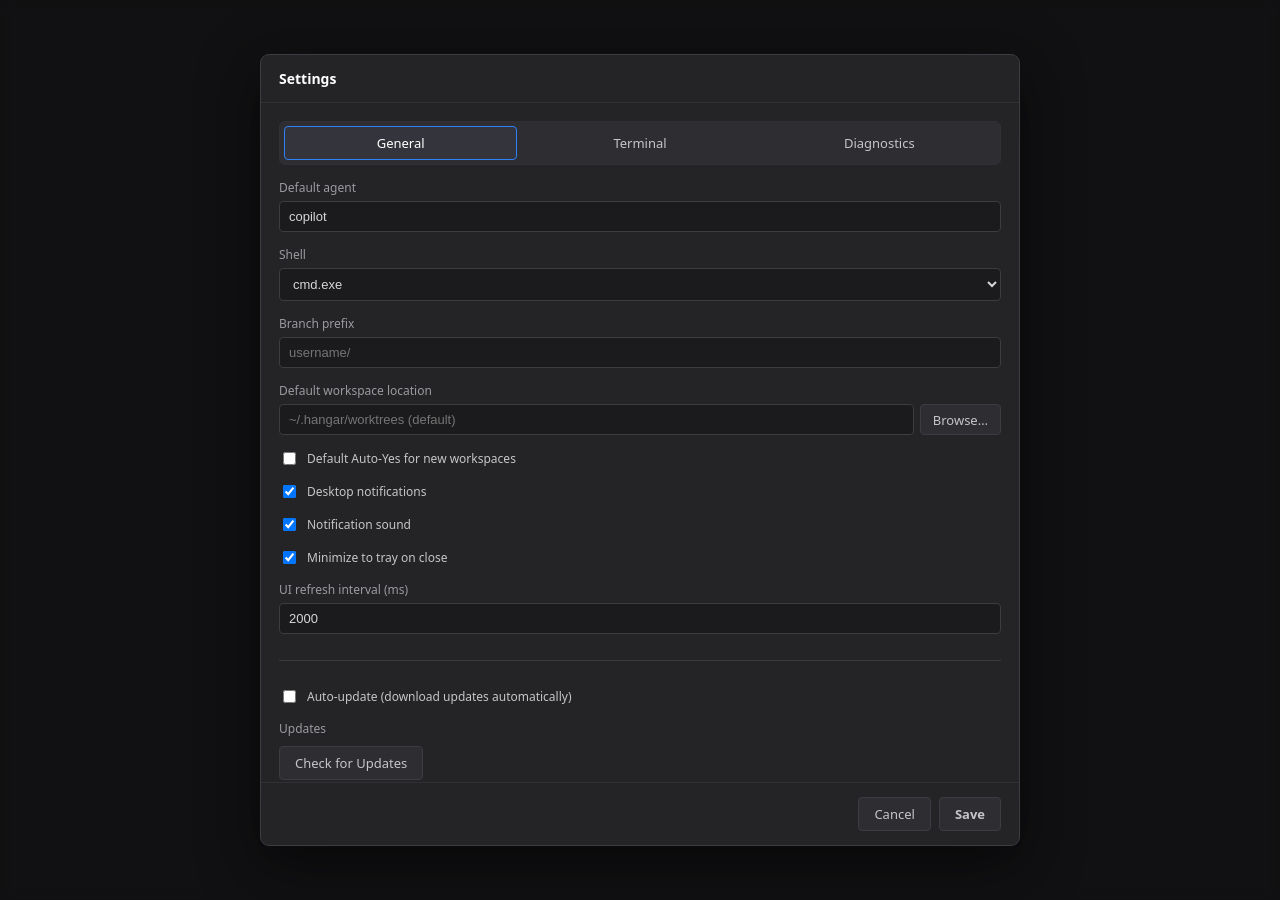
Test: SettingsModal › auto-detects installed terminal profiles
The width and height of the screenshot is (1280, 900).
Click the tab "Terminal" at (640, 143), box x1=523 y1=126 x2=757 y2=160
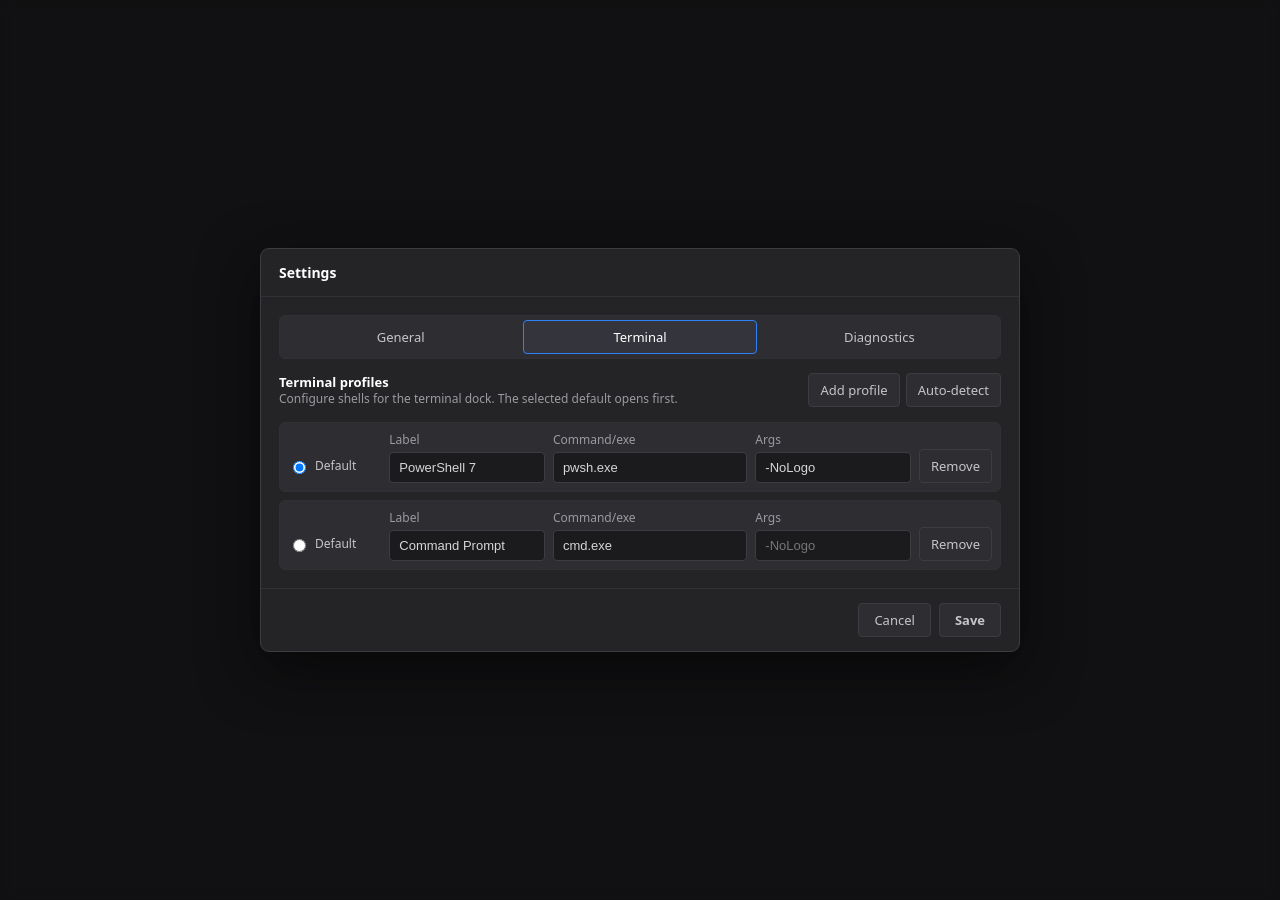
Click the button "Auto-detect" at (953, 390), box x1=906 y1=373 x2=1001 y2=407
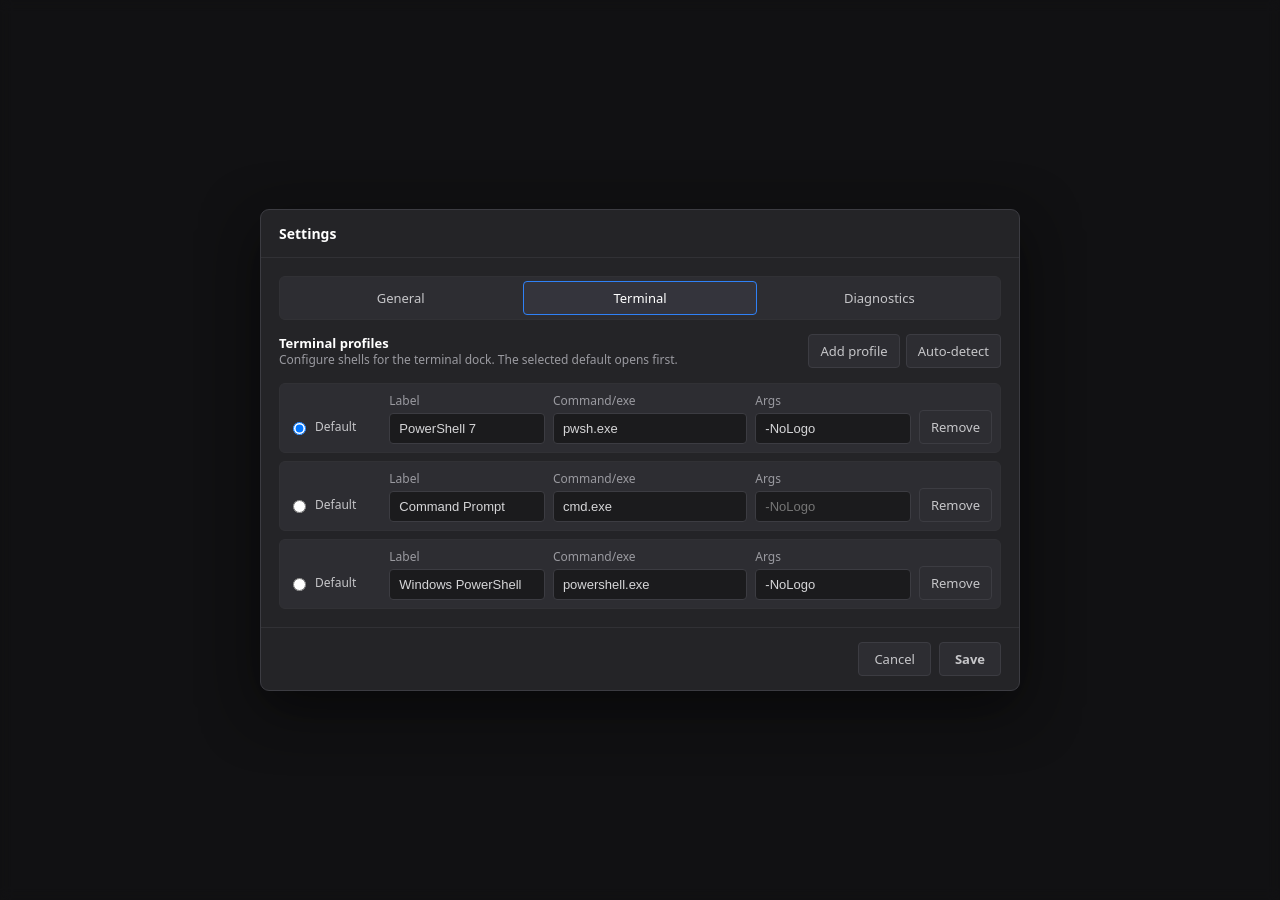
Expected: the 3rd field showing "Windows PowerShell" is shown, x1=389 y1=569 x2=545 y2=600
